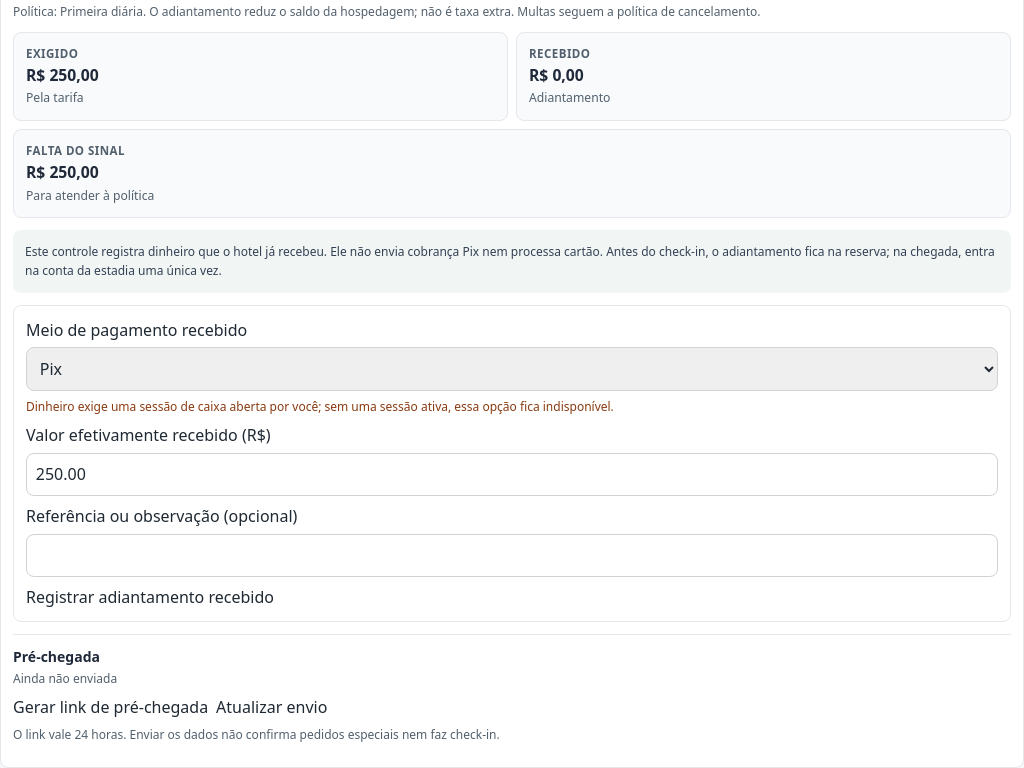
it: registra Pix com versão e chave, atualiza e impede duplo envio
(page scrolled)
Replace the text in the number field labelled "Valor efetivamente recebido (R$)" with "250". click: (512, 474)
box: left=26, top=453, right=998, bottom=496
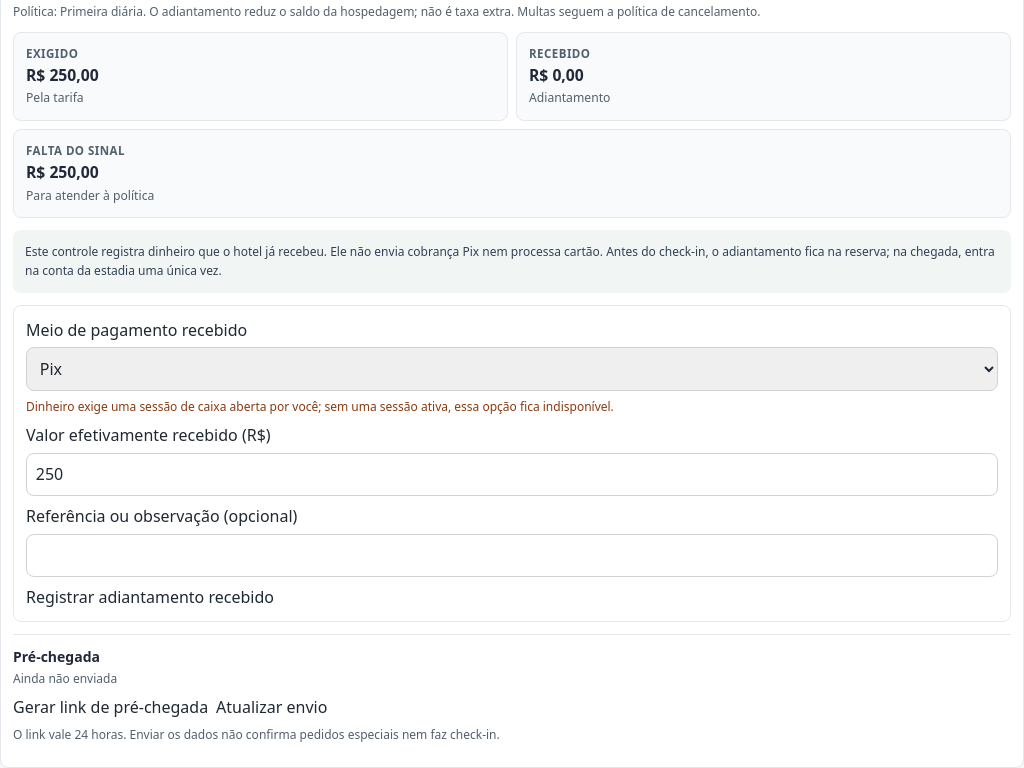
Submit the form named "Registrar adiantamento recebido", box left=13, top=305, right=1011, bottom=622
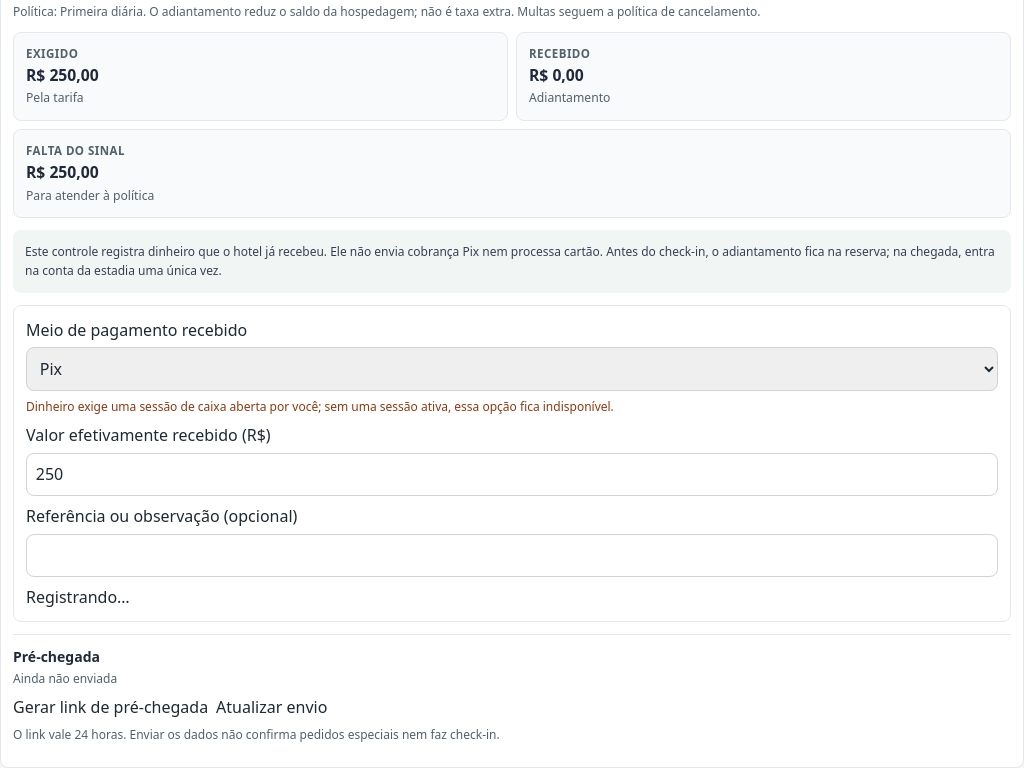
Submit the form named "Registrar adiantamento recebido", box left=13, top=305, right=1011, bottom=622
(page scrolled)
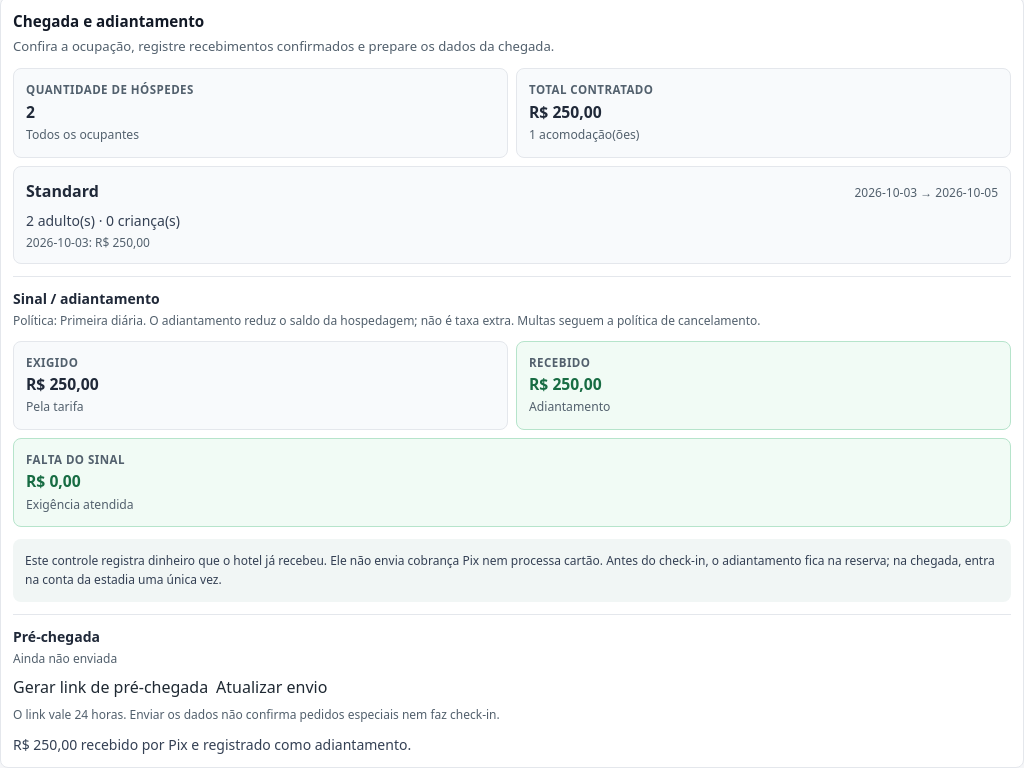
Result: the text "R$ 250,00 recebido por Pix e registrado como adiantamento." is shown at left=13, top=735, right=411, bottom=754
